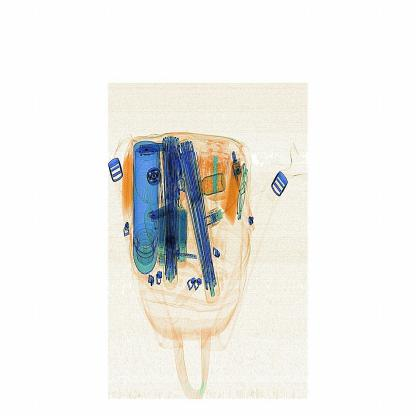pliers: (208, 151, 224, 218)
